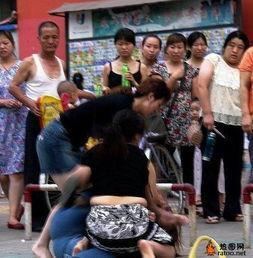Fall-Detected: (35, 192, 187, 256)
